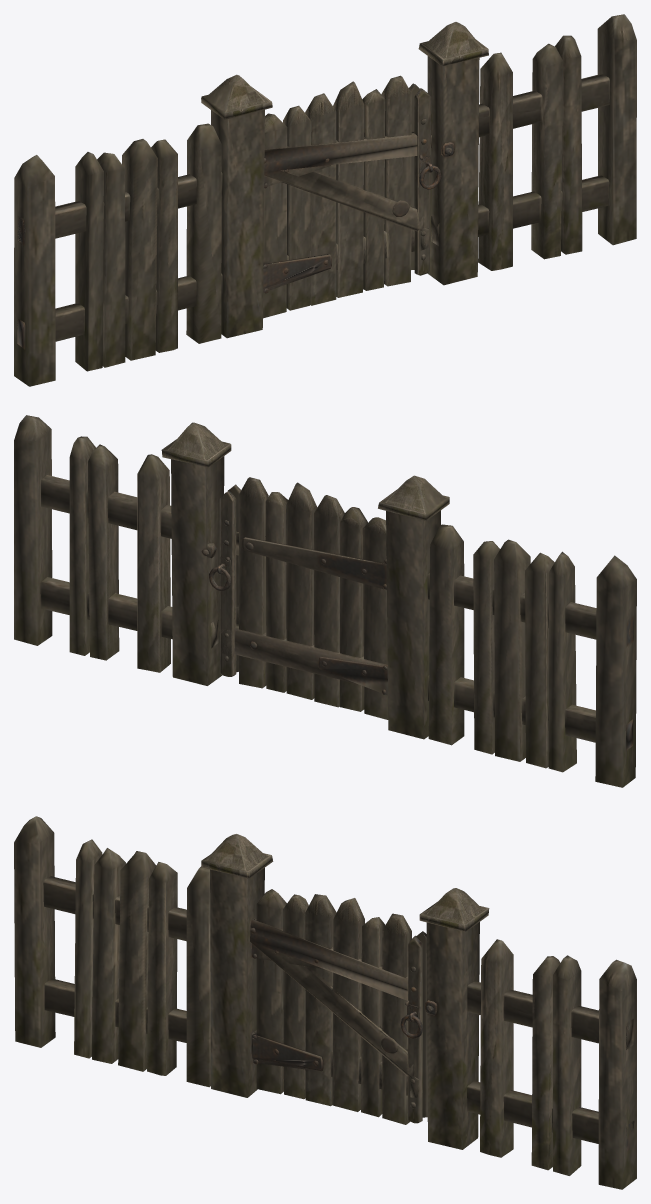
The model's file is Meshy_AI_prop_fence_gate_textu_0921204748_texture.glb.
The picture shows the model from 3 angles, top to bottom: view 1: azimuth 30°, elevation 25°; view 2: azimuth 150°, elevation 25°; view 3: azimuth 330°, elevation 25°; orthographic projection.
Size of the model in its own units: 2 by 0.8027 by 0.1348.
Materials: 1 (1 with a texture image).
